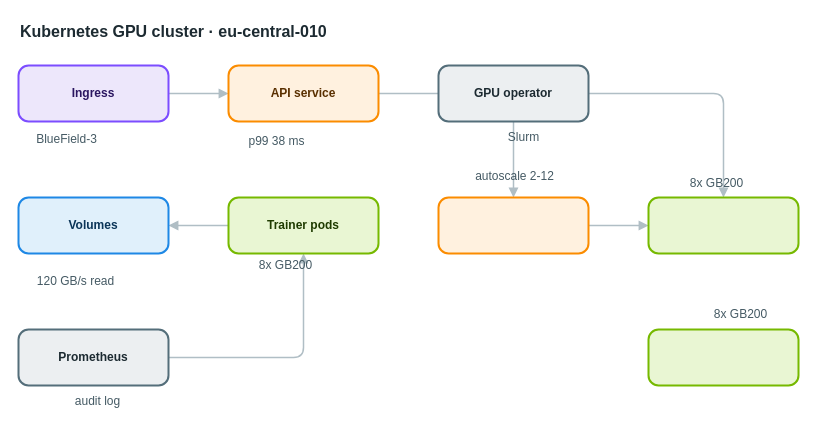
Some shapes in this 816 by 428 pixel diagram are drawn without their labels. Each missing label, with the centre of its shape:
"GPU node A" goes at pixel 723 225.
"GPU node B" goes at pixel 723 357.
"Inference pods" goes at pixel 513 225.
